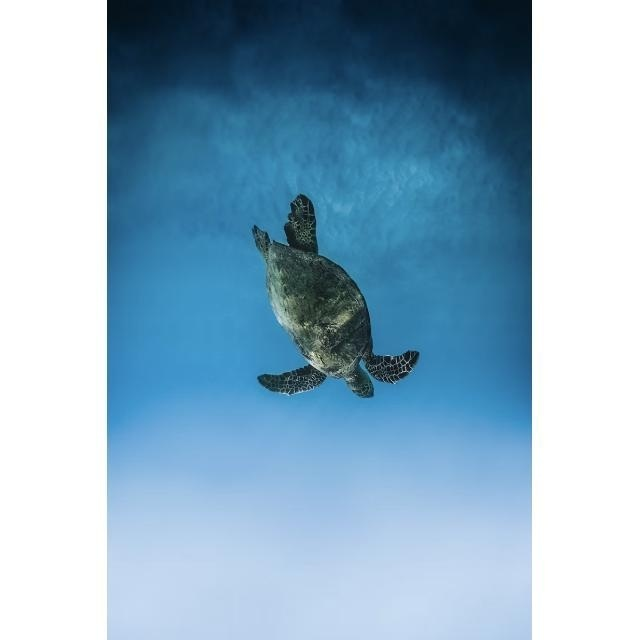turtle: (250, 192, 420, 400)
